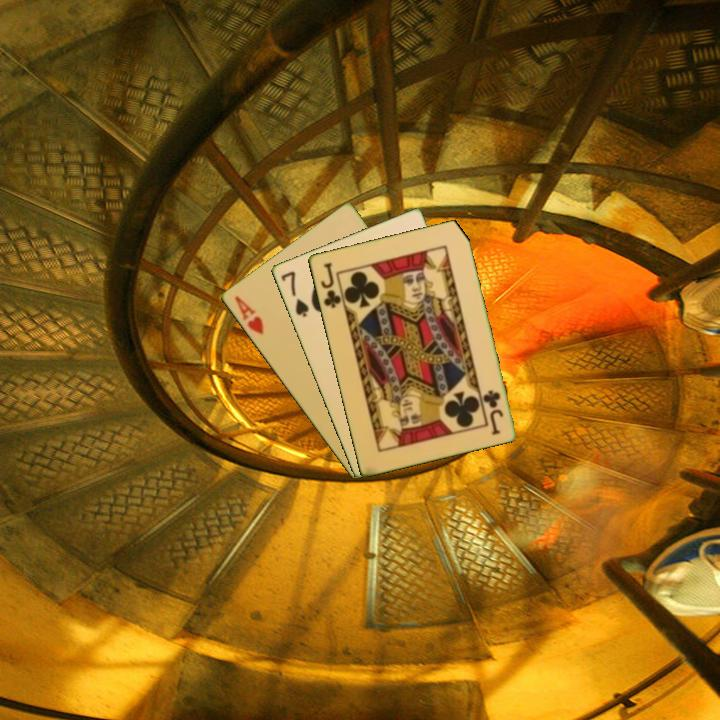7s: (277, 267, 312, 320)
Ah: (230, 292, 266, 337)
Jc: (317, 259, 344, 311), (480, 386, 506, 437)
